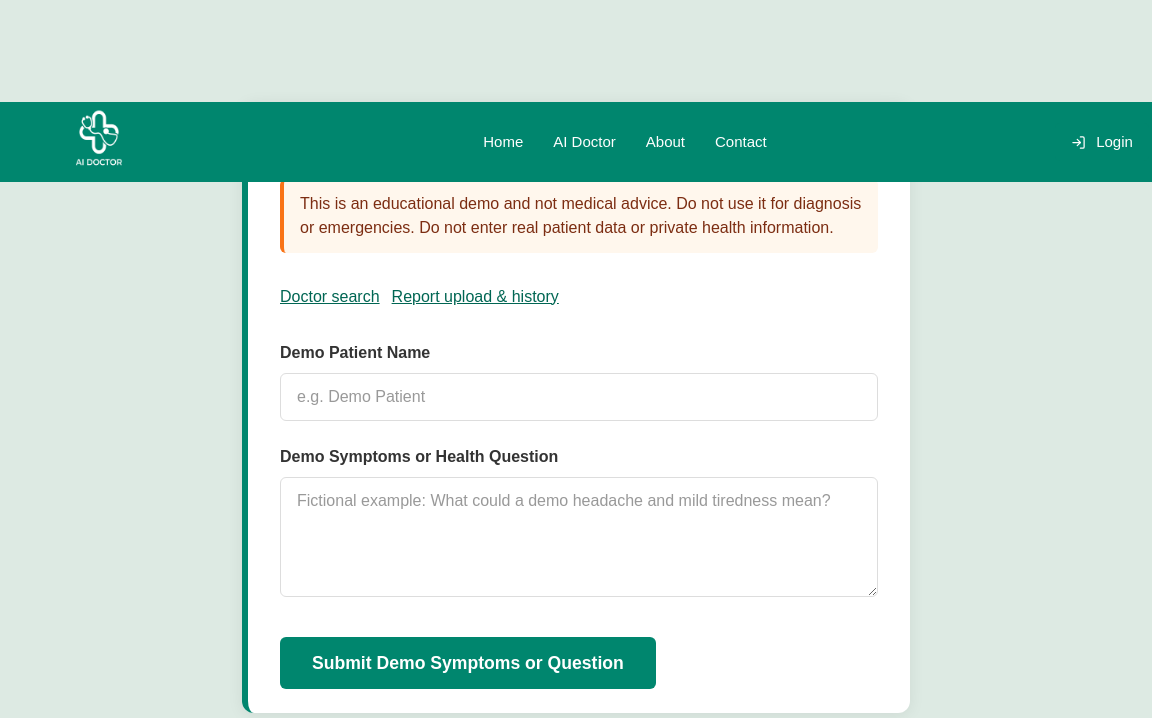
SymptomChecker › shows a request error and retains fictional input for retry
The width and height of the screenshot is (1152, 718).
In the field labelled "Demo Patient Name": (579, 397) x1=280 y1=373 x2=878 y2=421, type "Demo Patient"
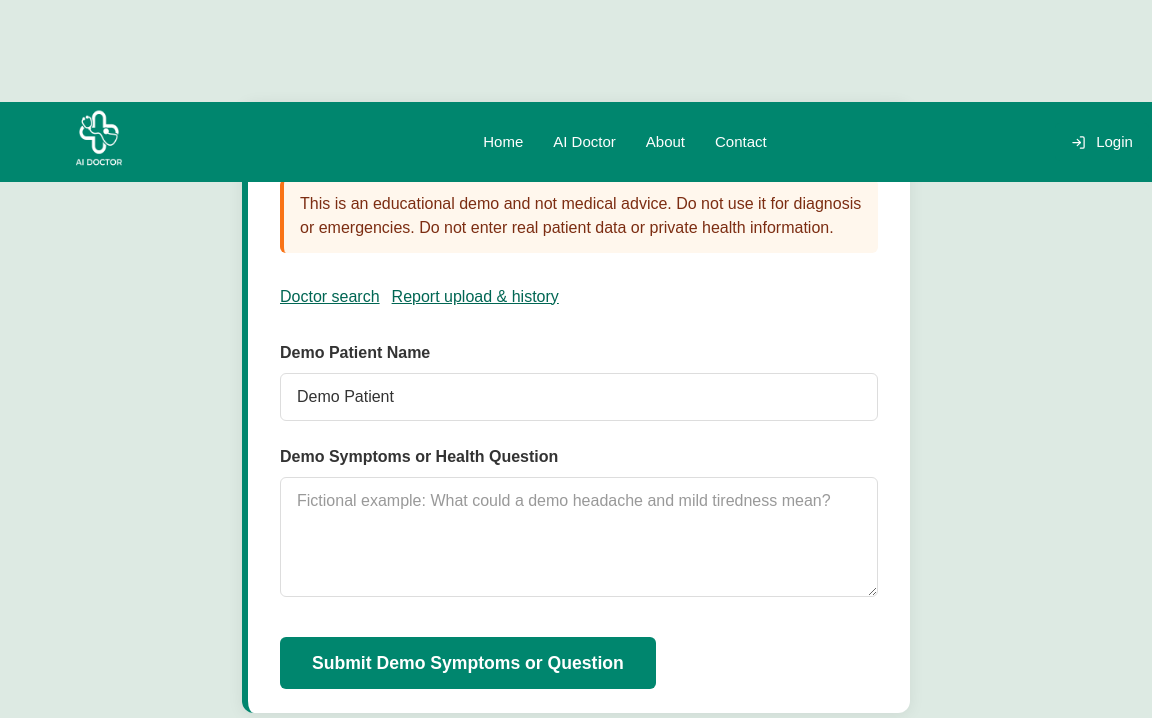
Replace the text in the text box labelled "Demo Symptoms or Health Question" with "Fictional mild tiredness": (579, 537) x1=280 y1=477 x2=878 y2=597
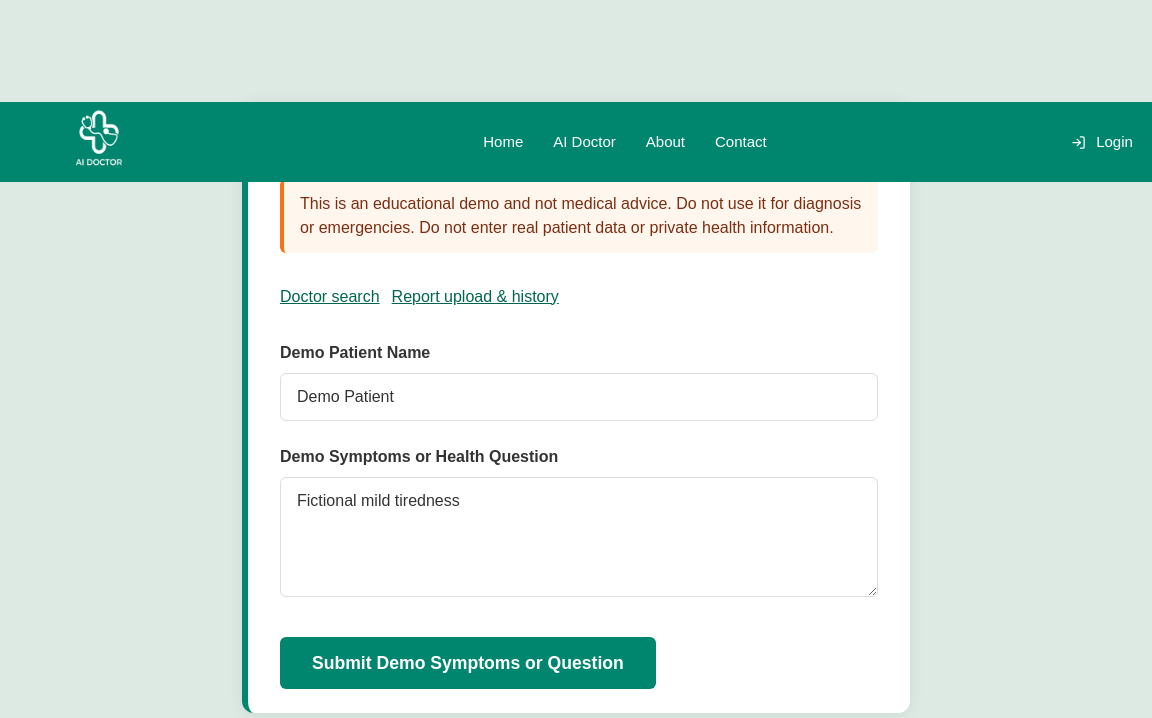
Click the button "Submit Demo Symptoms or Question": (468, 663) x1=280 y1=637 x2=656 y2=689
(page scrolled)
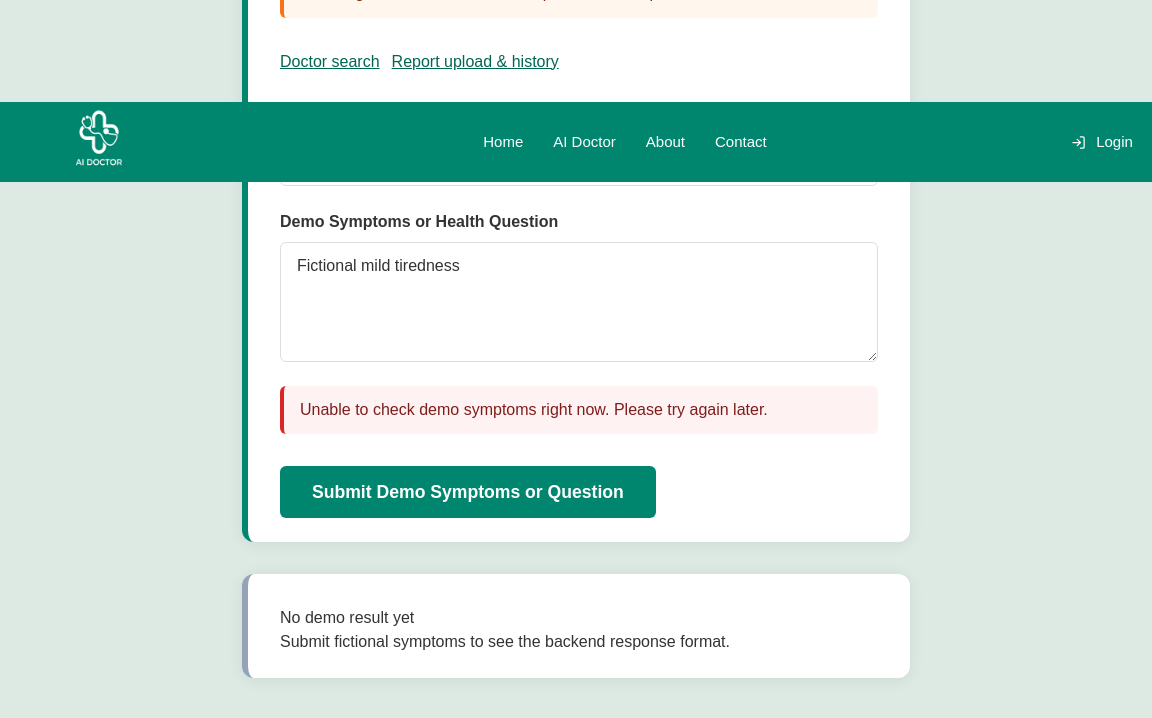
Expected: the button "Submit Demo Symptoms or Question" is enabled, x1=280 y1=466 x2=656 y2=518
Expected: the message shows "Unable to check demo symptoms", x1=300 y1=401 x2=768 y2=418
